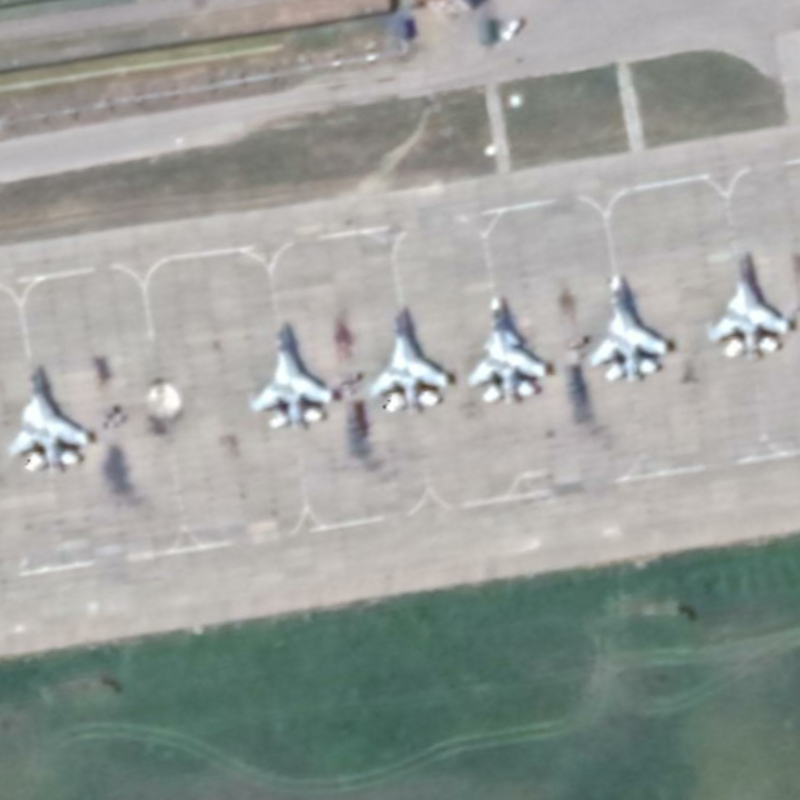A1: (246, 318, 335, 432), (5, 363, 92, 476), (704, 250, 793, 360), (367, 302, 452, 415), (587, 271, 671, 383)
A19: (465, 293, 551, 408)
